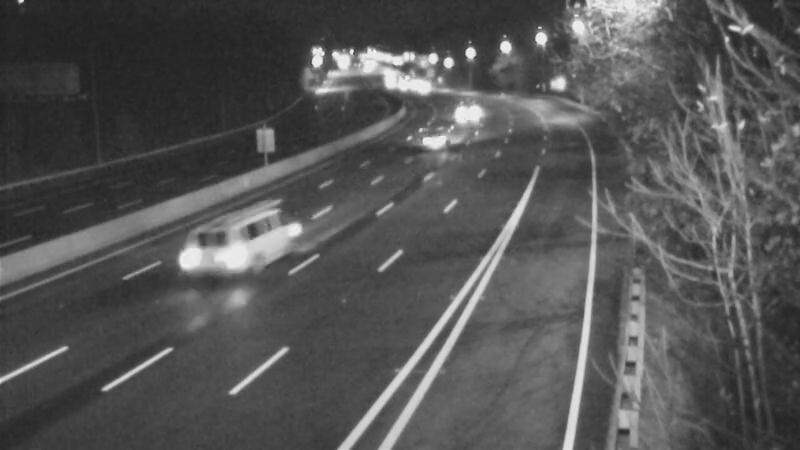vehicle: (179, 210, 259, 290), (444, 89, 494, 139), (414, 115, 464, 165)
